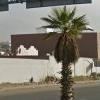Palm tree: (39, 1, 99, 99)
